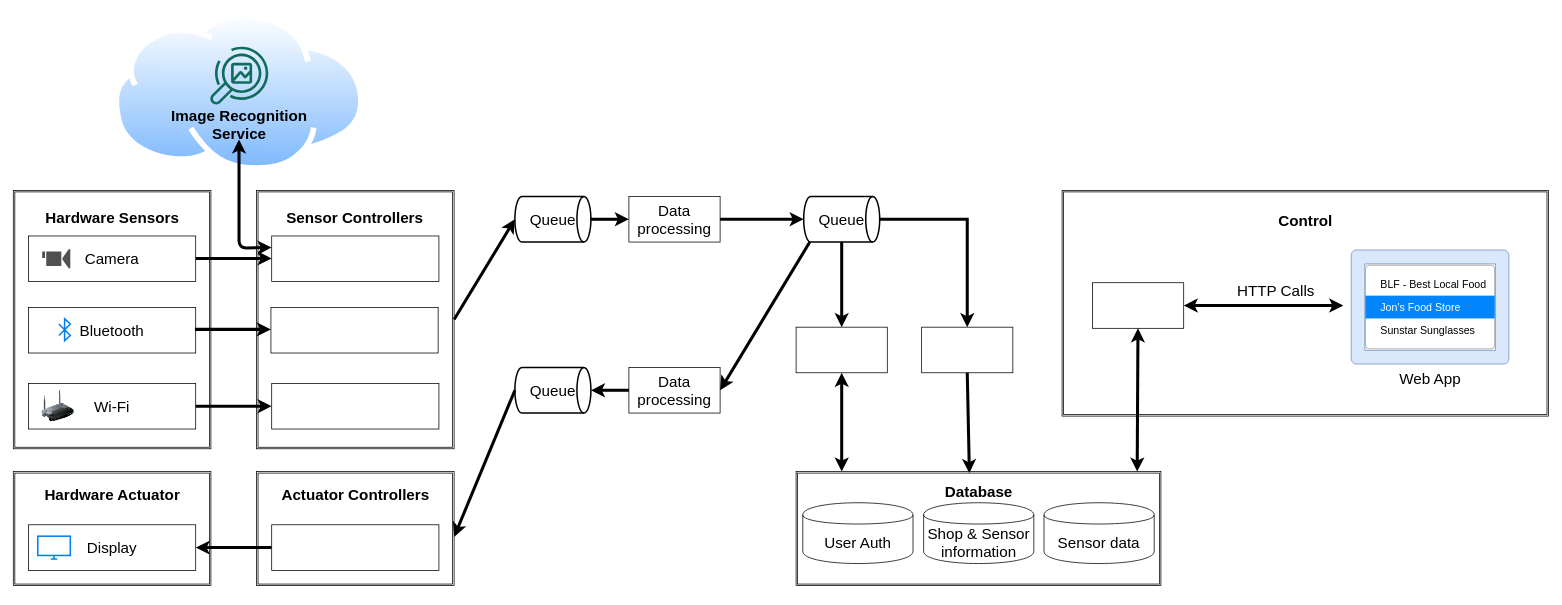
This 1562x605 diagram has some shape labels left out. Here are the shapes that lost their labels. From the top down, the centre of each, then its label:
At [355,258]: "Camera Controller".
At [1138,305]: "Frontend service".
At [354,330]: "Bluetooth Controller".
At [841,349]: "AI Planning service".
At [967,349]: "Data service".
At [355,406]: "Wi-Fi Controller".
At [355,547]: "Display Controller".
